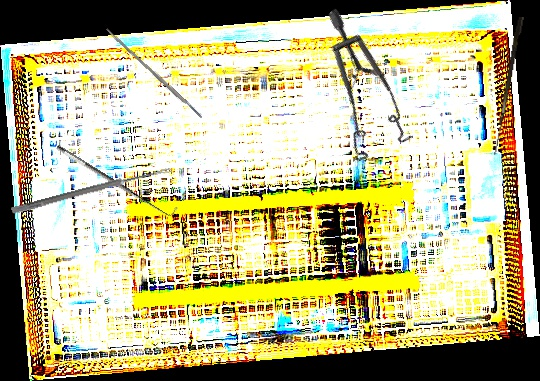Hook Surgical: (54, 136, 180, 223), (494, 16, 524, 156)
Scalpel Handle: (104, 27, 204, 120)
Speculum: (268, 7, 443, 178)
Surgical Spoon: (10, 164, 174, 216)
